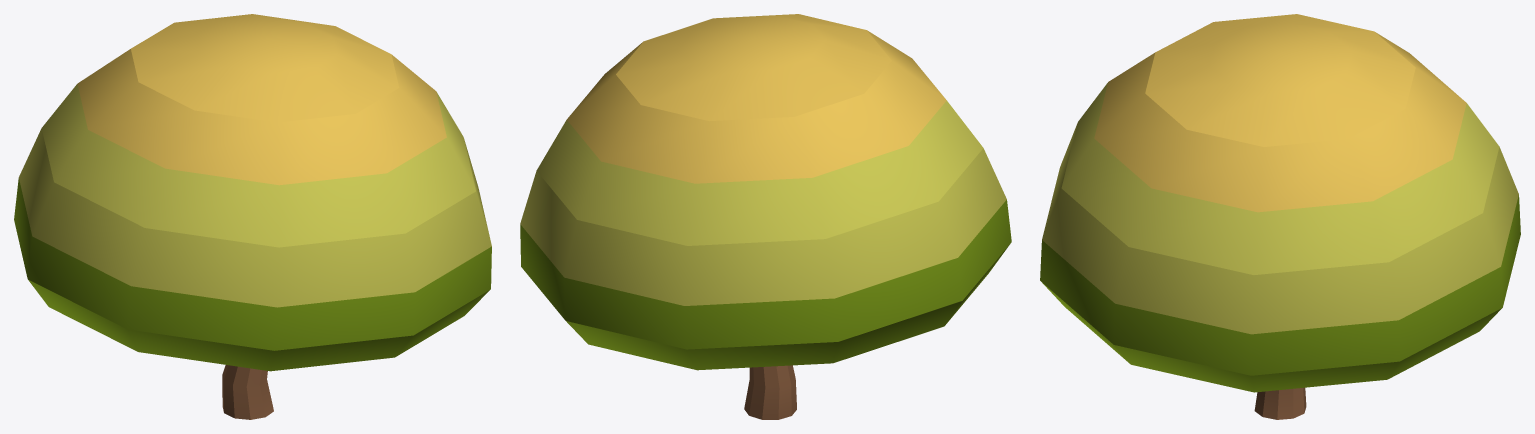
Rendered from bush_03_low.fbx.
3 views of the same model, side by side, from view 1: azimuth 30°, elevation 25°; view 2: azimuth 150°, elevation 25°; view 3: azimuth 270°, elevation 25° (orthographic).
Visible parts, largest first — view 1: bush_03_lod0; view 2: bush_03_lod0; view 3: bush_03_lod0.
Part boxes in pixels (box(x1,y1,x2,y2)): bush_03_lod0: box(14, 14, 491, 419); bush_03_lod0: box(520, 14, 1011, 419); bush_03_lod0: box(1040, 14, 1520, 419).
Bounding box in the file's own units: 111 × 91.56 × 109.
